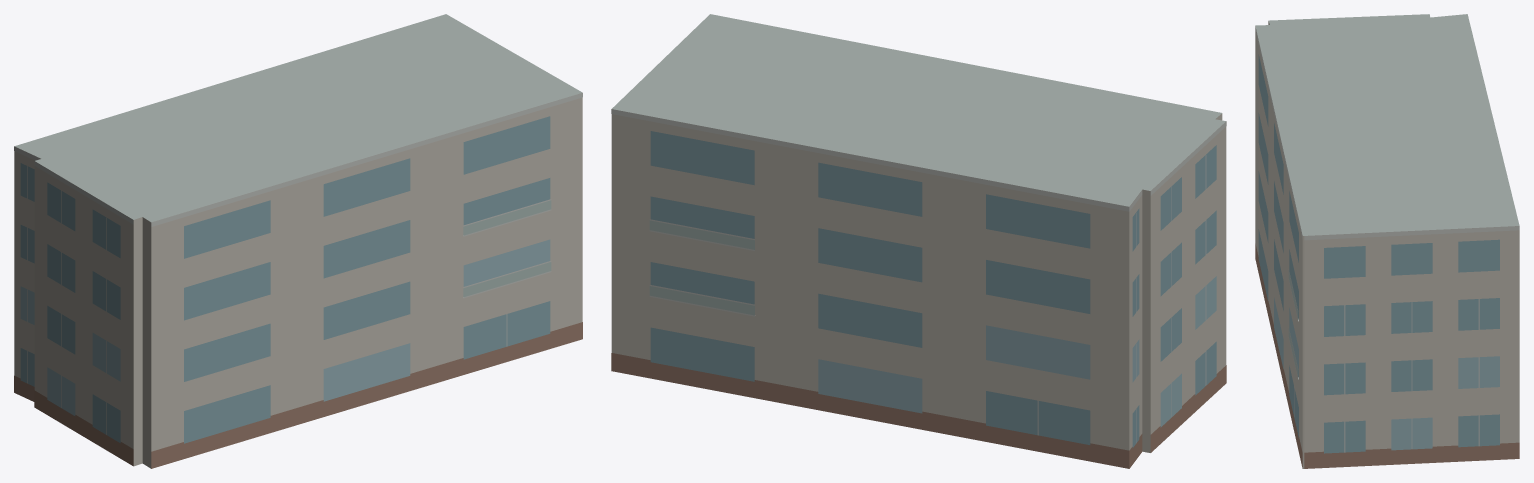
The model's file is survey-upis-32633387.glb.
The picture shows the model from 3 angles, left to right: view 1: azimuth 30°, elevation 25°; view 2: azimuth 150°, elevation 25°; view 3: azimuth 270°, elevation 25°; orthographic projection. The views are drawn at different scales.
Visible parts, largest first — view 1: survey-upis-32633387.tmp; view 2: survey-upis-32633387.tmp; view 3: survey-upis-32633387.tmp.
Part boxes in pixels (x1,y1,x2,y2): survey-upis-32633387.tmp: (14, 14, 582, 468); survey-upis-32633387.tmp: (611, 14, 1226, 468); survey-upis-32633387.tmp: (1255, 14, 1519, 468).
Size of the model in its own units: 26.17 by 12.8 by 13.17.
